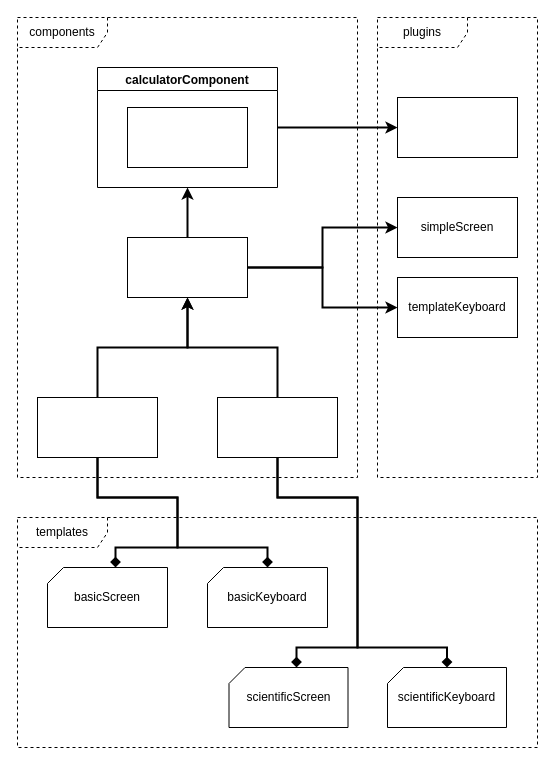
Some shapes in this 555 by 765 pixel diagram are drawn without their labels. Here are the shapes that lost their labels. From the top down, the centre of each, then its label:
At point 187,137: "calculatorBoard".
At point 457,127: "pluginsLoader".
At point 187,267: "defaultCalculator".
At point 97,427: "basicCalculator".
At point 277,427: "scientificCalculator".
